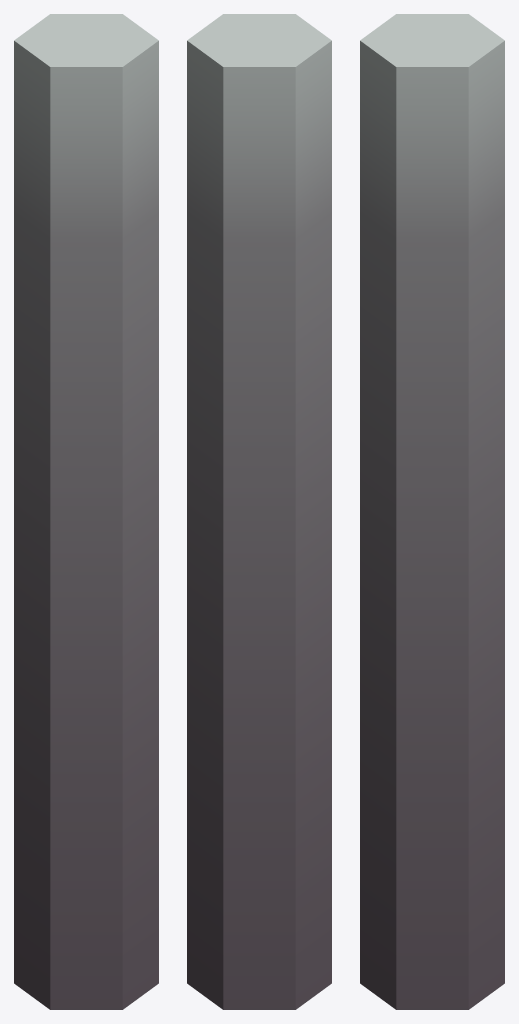
Rendered from Hexagon_01.obj.
3 views of the same model, side by side, from view 1: azimuth 30°, elevation 25°; view 2: azimuth 150°, elevation 25°; view 3: azimuth 270°, elevation 25° (orthographic).
Parts seen in each view (by area): view 1: Hexagon_Cylinder.068; view 2: Hexagon_Cylinder.068; view 3: Hexagon_Cylinder.068.
Boxes of the visible parts, x1=… form: Hexagon_Cylinder.068: x1=14, y1=14, x2=158, y2=1009; Hexagon_Cylinder.068: x1=187, y1=14, x2=331, y2=1009; Hexagon_Cylinder.068: x1=360, y1=14, x2=504, y2=1009.
Bounding box in the file's own units: 29.07 × 241 × 33.56.
